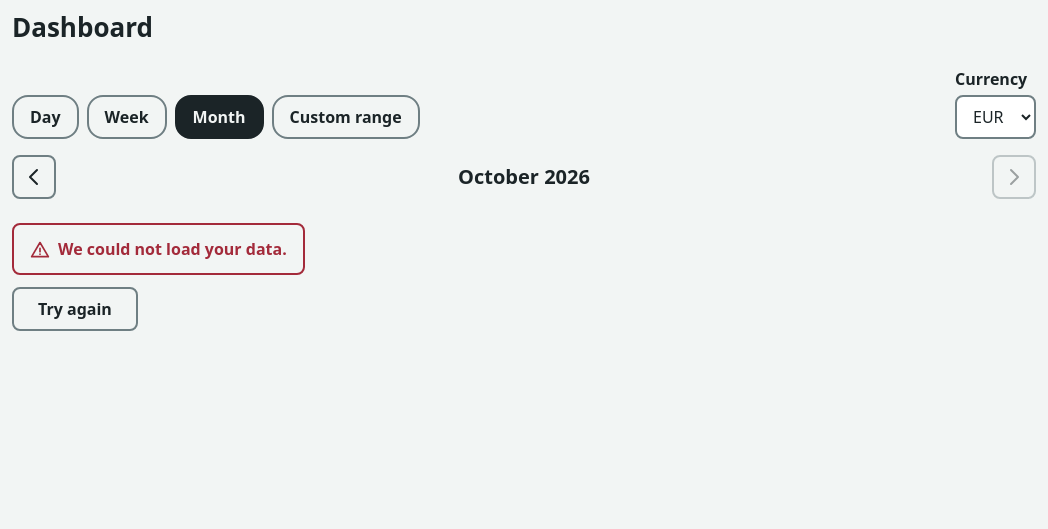
DashboardView › shows one error with a retry when nothing could be loaded
The width and height of the screenshot is (1048, 529).
Check: the number of messages is 1, box top-left (12, 223), bottom-right (305, 275)
Check: the message "We could not load your data." is shown, box top-left (12, 223), bottom-right (305, 275)
Click the button "Try again" at (75, 309), box top-left (12, 287), bottom-right (138, 331)
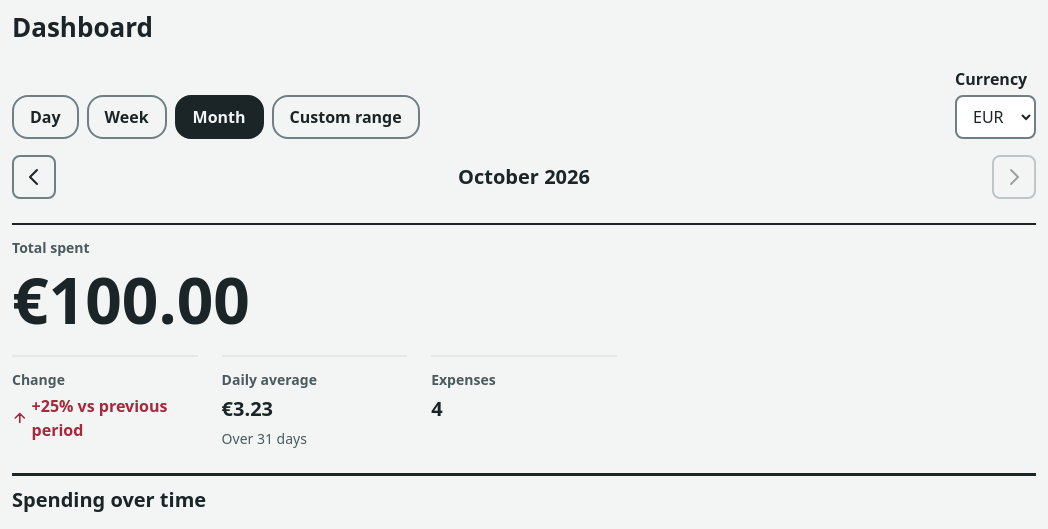
Check: the element with class "kpi__list" is shown, box top-left (12, 223), bottom-right (1036, 449)
